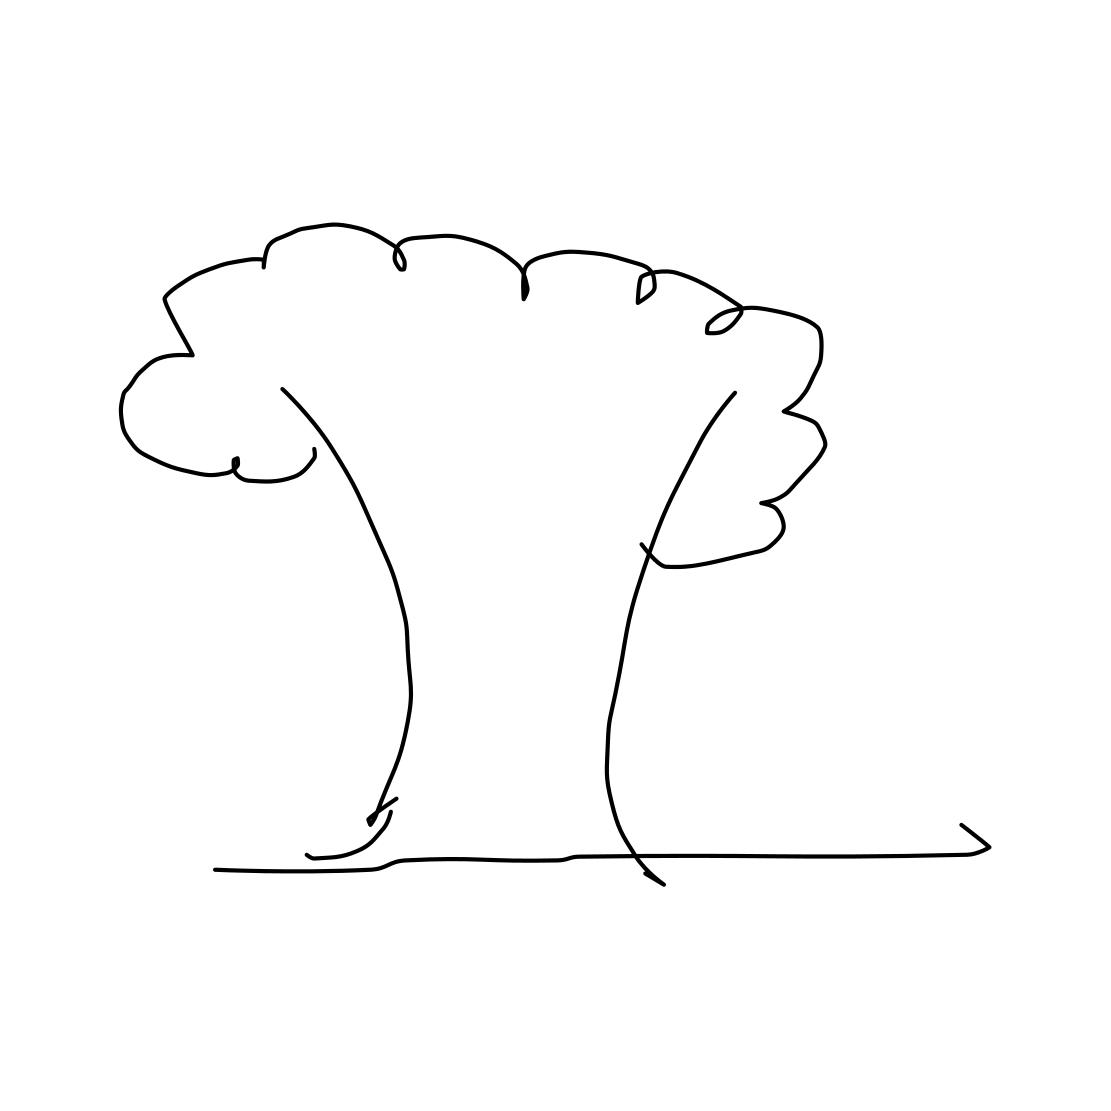Tree: (87, 158, 858, 888)
